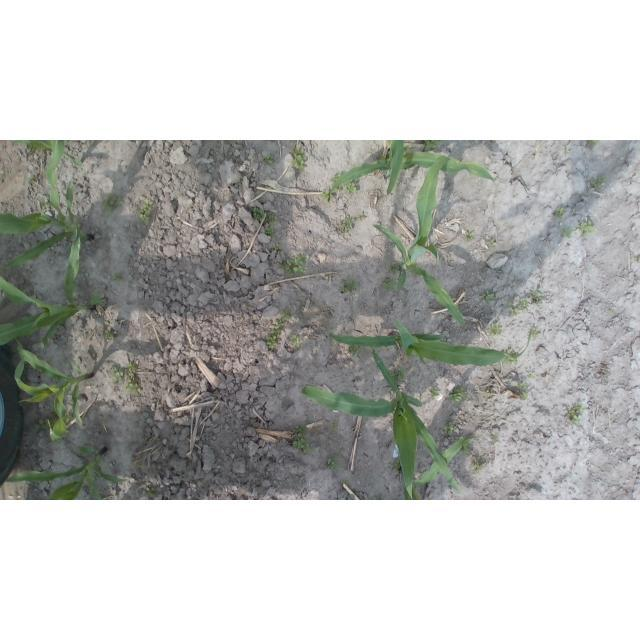Maize: (301, 347, 461, 500), (374, 152, 466, 328), (0, 217, 104, 349), (0, 141, 94, 272), (330, 141, 498, 198), (327, 321, 533, 366), (11, 338, 94, 441), (1, 444, 130, 500), (398, 433, 479, 500), (10, 140, 84, 168), (384, 140, 407, 194)
Weeds: (291, 426, 312, 455), (285, 252, 308, 277), (265, 319, 283, 349), (565, 402, 586, 427), (124, 363, 141, 393), (290, 147, 307, 171), (103, 194, 124, 212), (139, 199, 154, 223), (36, 414, 57, 431), (508, 300, 528, 317), (449, 385, 467, 403), (589, 174, 607, 190), (579, 219, 595, 237), (340, 278, 358, 292), (341, 215, 355, 233), (457, 436, 470, 455), (110, 364, 123, 383), (321, 185, 334, 203), (471, 457, 486, 472), (503, 349, 517, 364), (480, 290, 495, 304), (529, 289, 543, 304), (489, 321, 502, 336), (387, 261, 402, 274), (327, 456, 340, 470), (391, 368, 405, 381), (290, 334, 303, 348), (252, 207, 265, 221), (423, 140, 440, 150), (382, 278, 395, 291), (345, 180, 357, 194), (104, 329, 117, 341), (444, 421, 454, 436), (29, 144, 45, 153), (561, 226, 573, 238), (145, 486, 157, 498), (330, 172, 343, 183), (63, 412, 74, 424), (348, 345, 360, 356), (429, 386, 439, 398), (529, 327, 539, 339), (40, 200, 53, 209), (465, 231, 475, 242), (281, 309, 292, 319), (265, 226, 276, 236), (556, 207, 565, 219), (266, 214, 279, 222), (263, 154, 273, 164), (330, 421, 339, 432), (343, 493, 356, 500), (112, 272, 122, 281), (235, 176, 243, 187), (515, 382, 526, 390), (273, 242, 284, 250), (394, 458, 401, 470), (28, 174, 36, 184), (562, 145, 570, 155), (277, 260, 284, 271), (490, 434, 499, 442), (92, 472, 100, 481), (589, 141, 599, 148), (484, 389, 492, 397), (488, 240, 496, 248), (357, 212, 365, 220), (522, 392, 529, 401), (609, 307, 617, 314), (528, 373, 536, 379), (374, 496, 385, 500), (335, 186, 342, 192), (634, 255, 640, 262), (1, 174, 6, 181), (344, 479, 349, 486), (105, 320, 110, 326), (490, 141, 496, 144)
